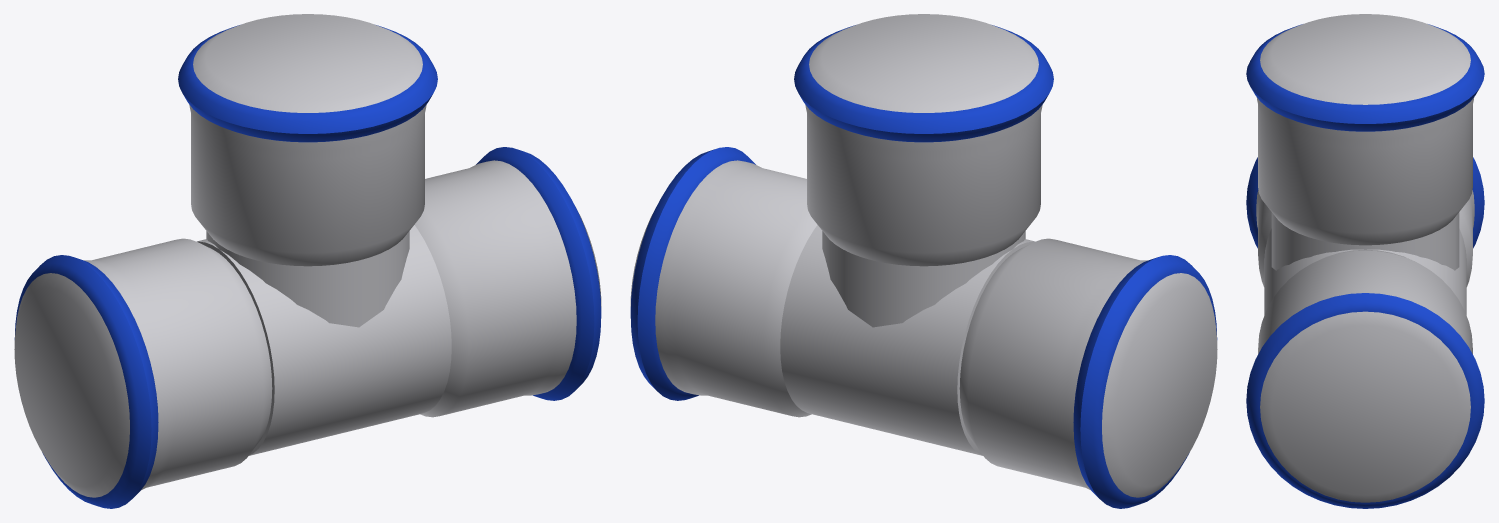
Rendered from fitting_tee_35.glb.
The picture shows the model from 3 angles, left to right: view 1: azimuth 30°, elevation 25°; view 2: azimuth 150°, elevation 25°; view 3: azimuth 270°, elevation 25°; orthographic projection. The views are drawn at different scales.
Parts seen in each view (by area): view 1: раструб.001, раструб.002, раструб, узел, кольцо пресс.001, кольцо пресс.002, корпус.001, кольцо пресс; view 2: раструб.001, раструб.002, раструб, узел, кольцо пресс.001, кольцо пресс.002, корпус.001, кольцо пресс; view 3: раструб, раструб.002, кольцо пресс, кольцо пресс.002, корпус.001, узел, раструб.001, кольцо пресс.001.
Part boxes in pixels (x1=…): раструб.001: x1=14, y1=238, x2=272, y2=497; раструб.002: x1=189, y1=14, x2=426, y2=266; раструб: x1=414, y1=160, x2=601, y2=417; узел: x1=197, y1=225, x2=451, y2=455; кольцо пресс.001: x1=14, y1=255, x2=158, y2=508; кольцо пресс.002: x1=178, y1=25, x2=437, y2=142; корпус.001: x1=206, y1=231, x2=409, y2=327; кольцо пресс: x1=476, y1=147, x2=601, y2=400; раструб.001: x1=959, y1=238, x2=1217, y2=497; раструб.002: x1=805, y1=14, x2=1042, y2=266; раструб: x1=630, y1=160, x2=817, y2=417; узел: x1=780, y1=225, x2=1034, y2=455; кольцо пресс.001: x1=1073, y1=255, x2=1217, y2=508; кольцо пресс.002: x1=794, y1=25, x2=1053, y2=142; корпус.001: x1=822, y1=231, x2=1025, y2=327; кольцо пресс: x1=630, y1=147, x2=755, y2=400; раструб: x1=1258, y1=250, x2=1472, y2=502; раструб.002: x1=1256, y1=14, x2=1474, y2=245; кольцо пресс: x1=1246, y1=293, x2=1484, y2=508; кольцо пресс.002: x1=1246, y1=24, x2=1484, y2=131; корпус.001: x1=1271, y1=212, x2=1459, y2=270; узел: x1=1264, y1=228, x2=1466, y2=314; раструб.001: x1=1256, y1=190, x2=1474, y2=286; кольцо пресс.001: x1=1246, y1=157, x2=1484, y2=248.
Bounding box in the file's own units: 0.104 × 0.0797 × 0.0483.
